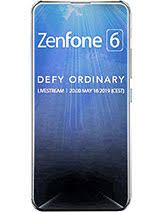asus: (27, 1, 132, 212)
